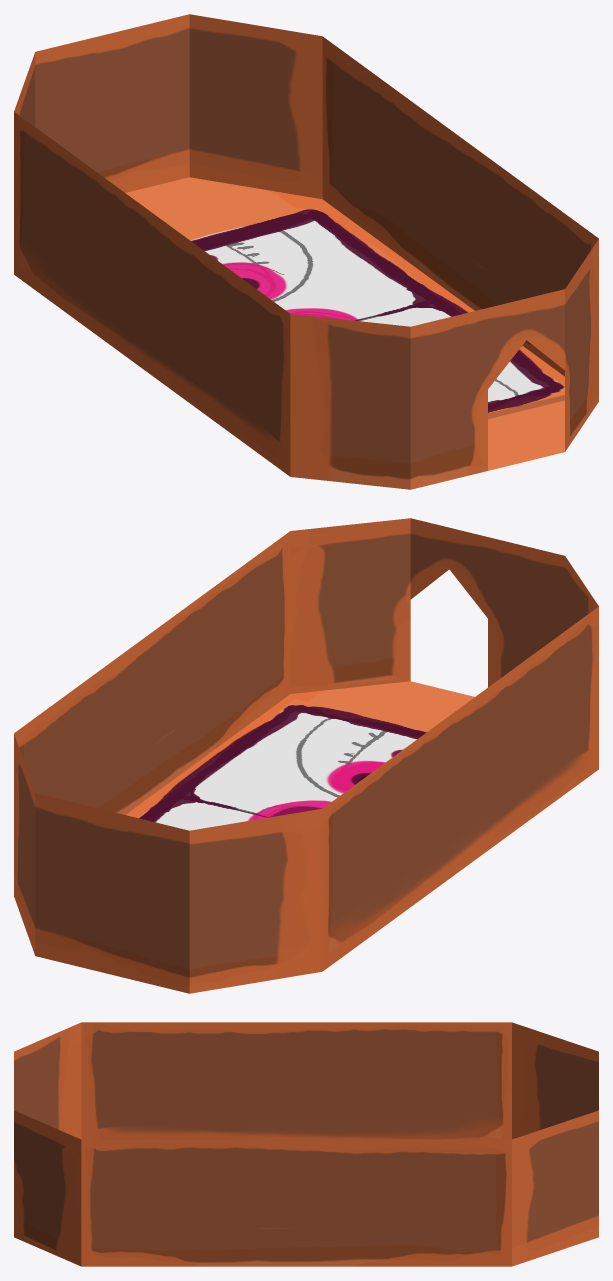
File: pistabasket.glb
The picture shows the model from 3 angles, top to bottom: view 1: azimuth 30°, elevation 25°; view 2: azimuth 150°, elevation 25°; view 3: azimuth 270°, elevation 25°; orthographic projection. The views are drawn at different scales.
Parts seen in each view (by area): view 1: Plane; view 2: Plane; view 3: Plane.
Part boxes in pixels (x1,y1,x2,y2): Plane: [14, 14, 598, 489]; Plane: [14, 518, 598, 993]; Plane: [14, 1022, 598, 1266].
Size of the model in its own units: 56.43 by 28.48 by 119.
Materials: 1 (1 with a texture image).
